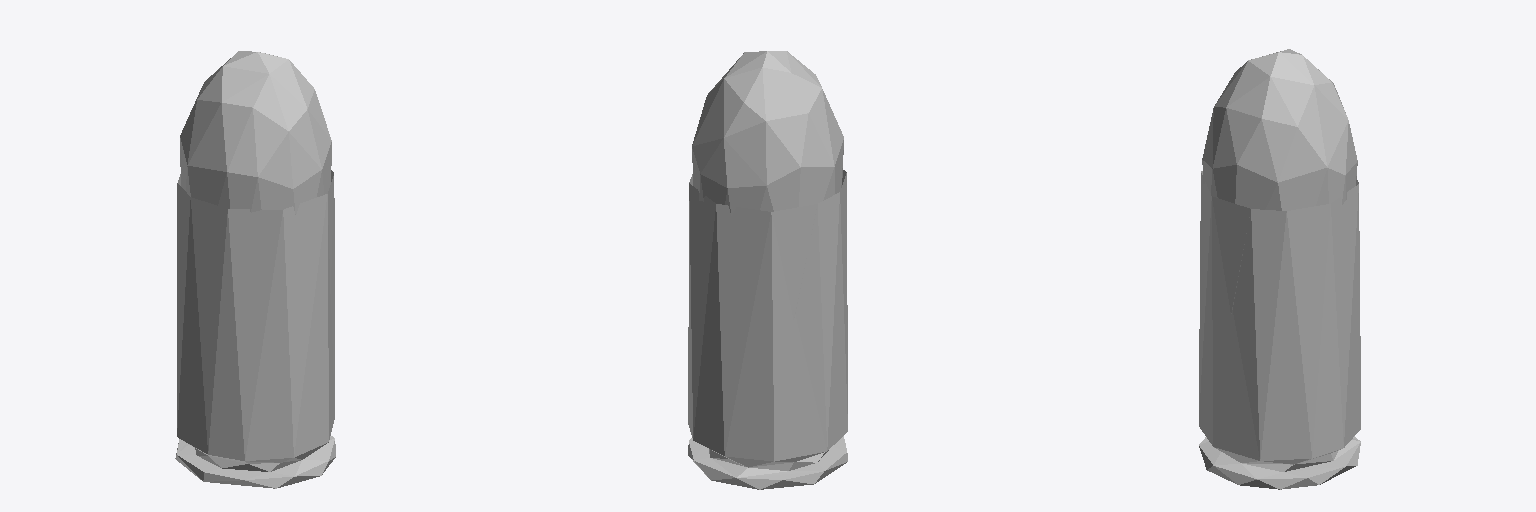
File: bullet.obj
3 views of the same model, side by side, from view 1: azimuth 30°, elevation 25°; view 2: azimuth 150°, elevation 25°; view 3: azimuth 270°, elevation 25° (orthographic).
Parts seen in each view (by area): view 1: bullet; view 2: bullet; view 3: bullet.
Boxes of the visible parts, x1,y1,x2,y2 form: bullet: [175, 51, 335, 488]; bullet: [688, 51, 847, 489]; bullet: [1199, 49, 1360, 489].
Size of the model in its own units: 0.3923 by 1.11 by 0.3999.